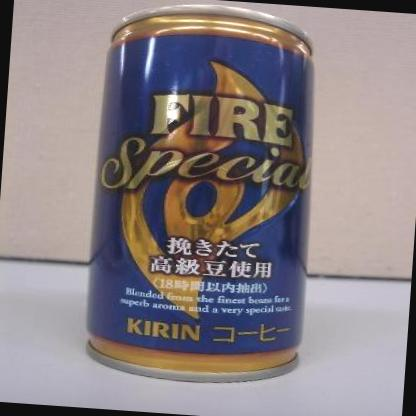alumunium_can: (73, 0, 330, 391)
